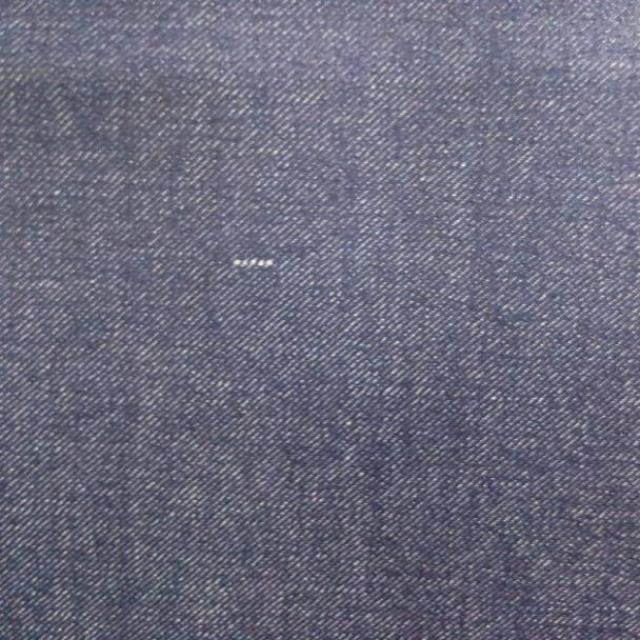Knot: (233, 259, 274, 268)
